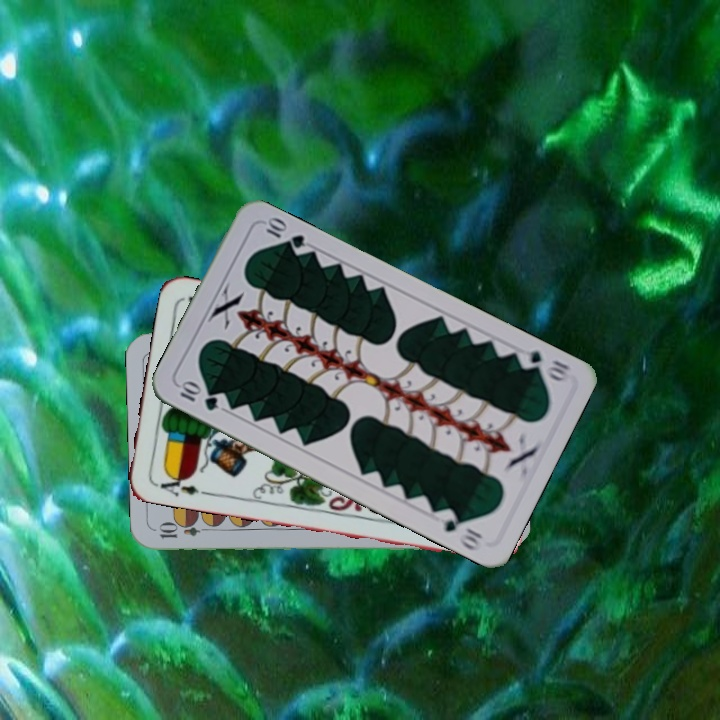E10: (155, 522, 214, 541)
EA: (156, 469, 201, 499)
G10: (513, 344, 573, 384), (175, 377, 222, 414)
